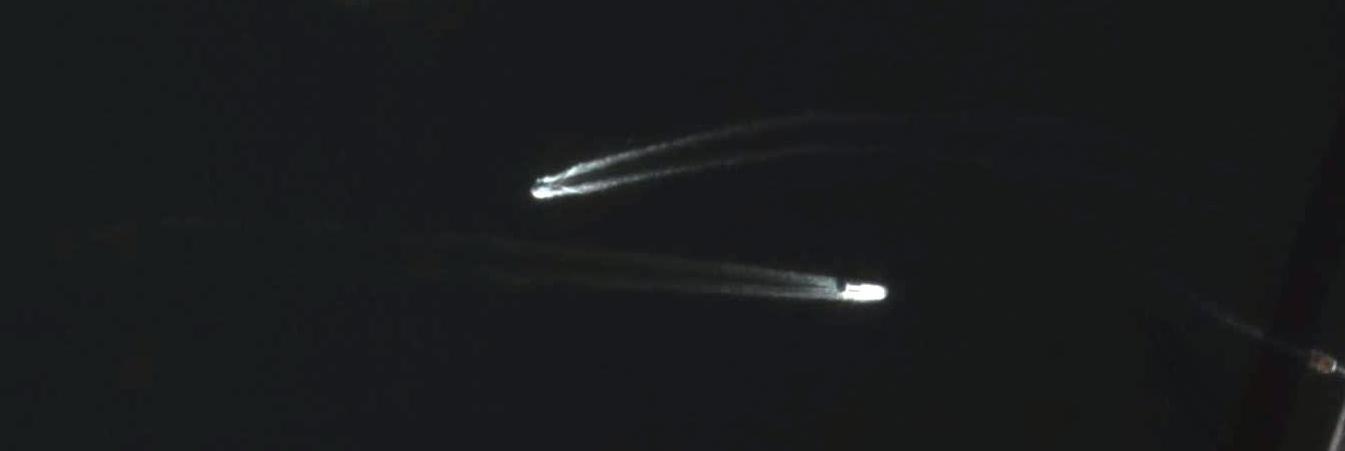person: (845, 283, 887, 301), (1308, 351, 1339, 375), (530, 182, 551, 190)
